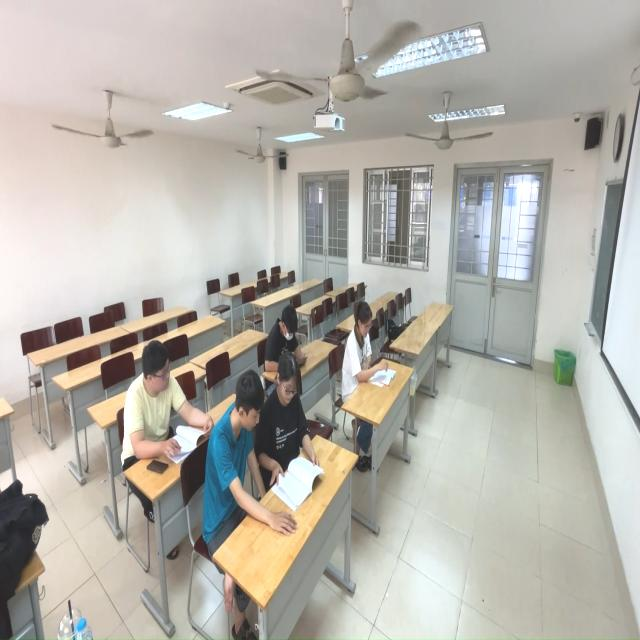read: (201, 365, 278, 560), (121, 340, 211, 472), (264, 353, 325, 511), (342, 300, 396, 401), (262, 295, 315, 375)
